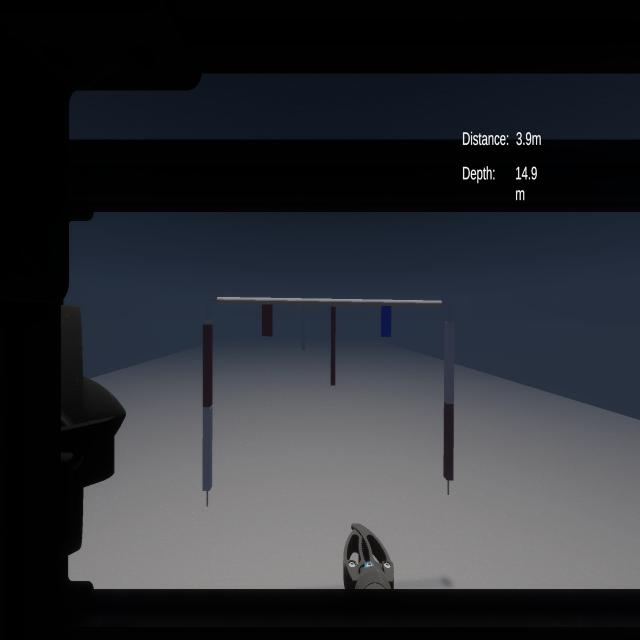Depth: (460, 162, 544, 208)
Distance: (457, 126, 548, 152)
Gate: (182, 271, 478, 528)
